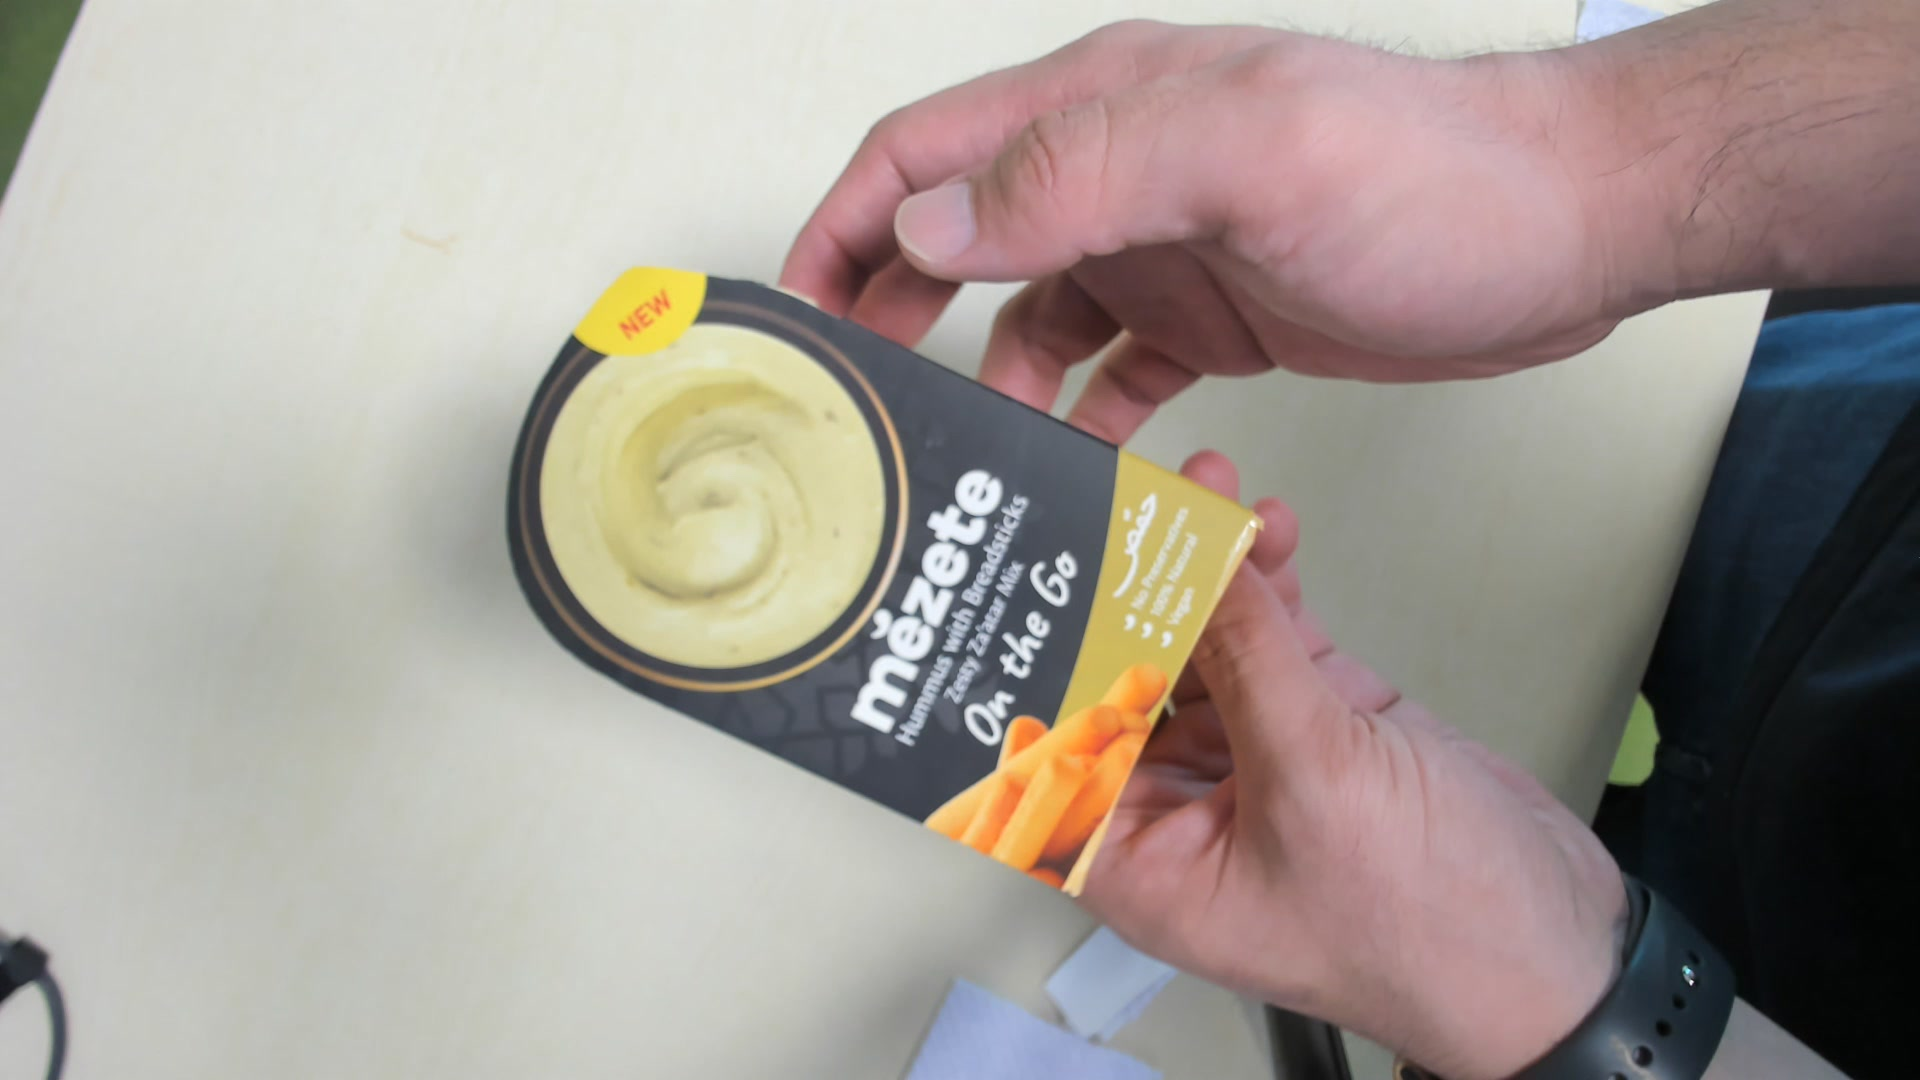InstantMeals_0-99g_NonHalal_NonHealthy: (504, 266, 1262, 902)
